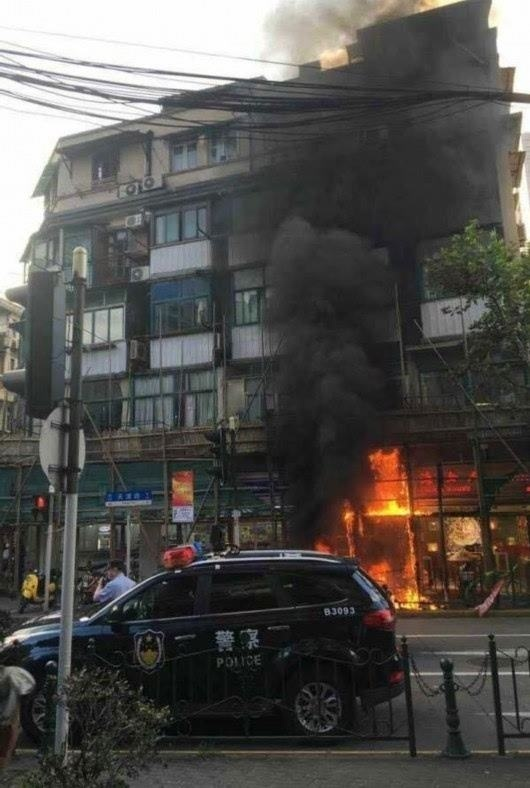fire: (325, 445, 449, 614)
